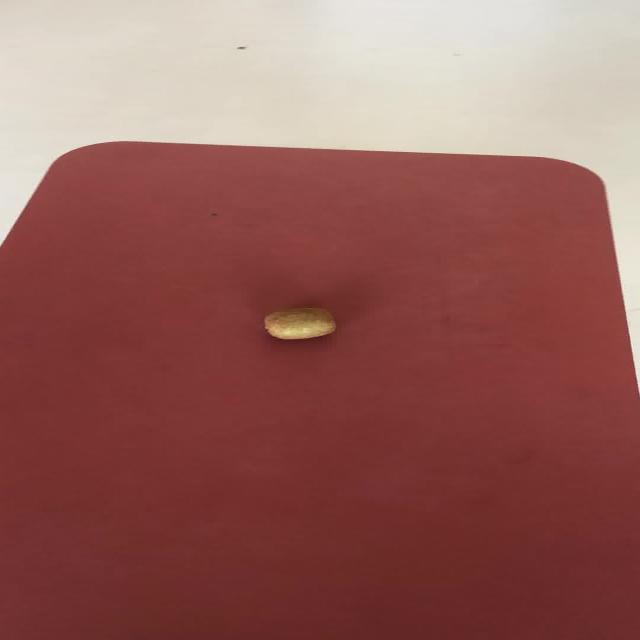kiwi: (262, 307, 335, 340)
